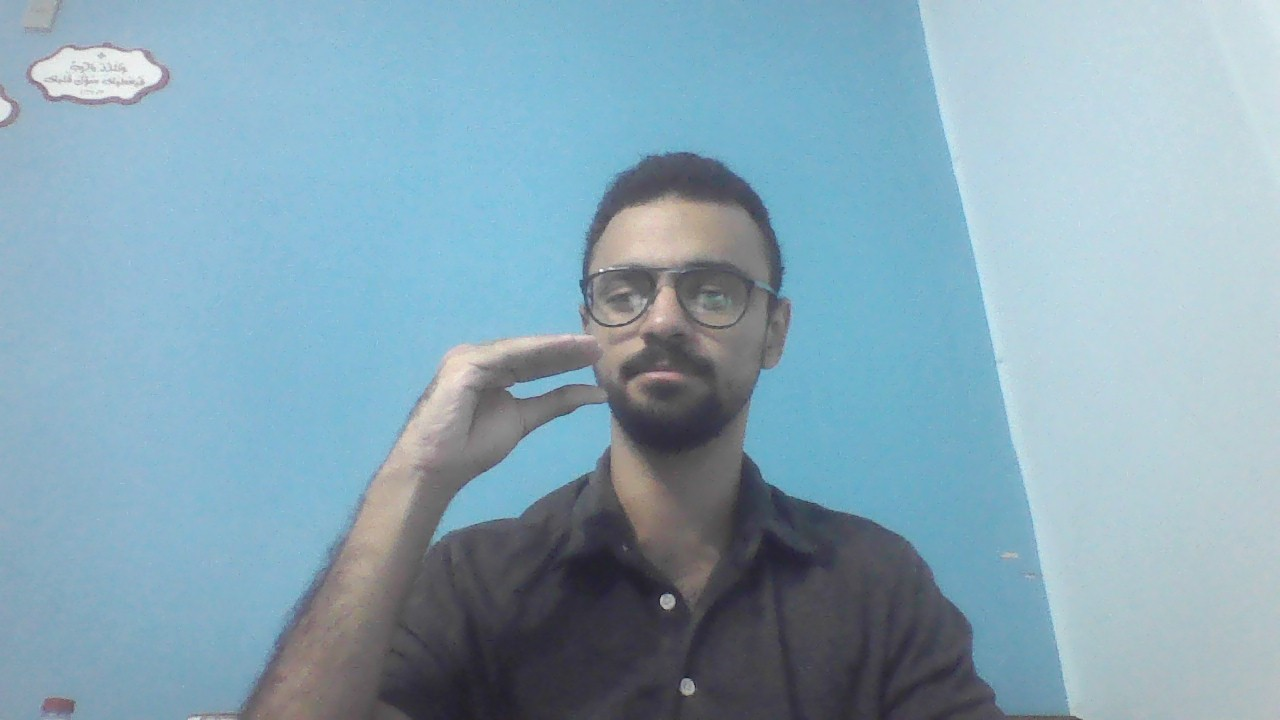eat: (390, 331, 610, 489)
